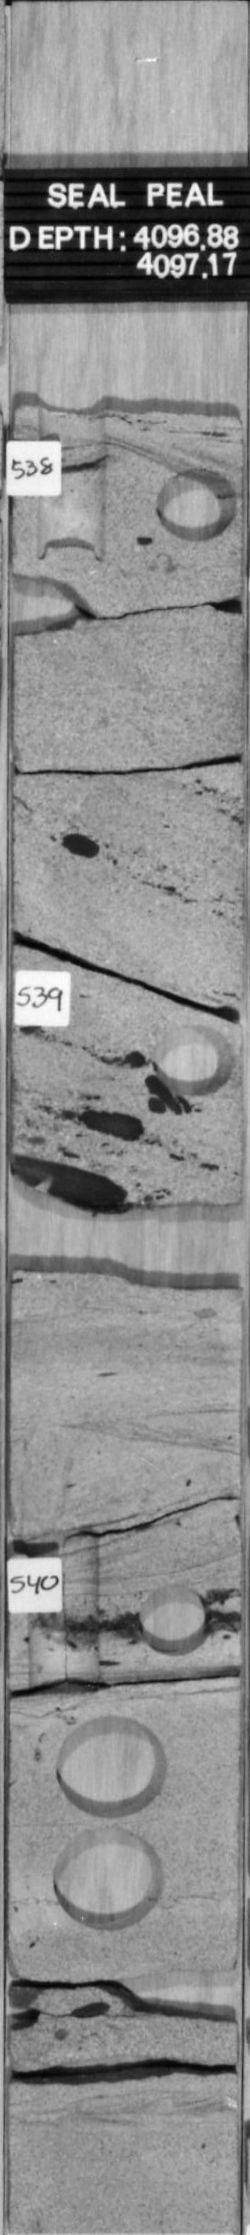hplug: (140, 1013, 241, 1106), (151, 455, 237, 543), (129, 1576, 216, 1662)
scal: (47, 1713, 171, 1823), (44, 1827, 163, 1934)
vplug: (21, 1529, 119, 1691), (29, 411, 114, 567)
